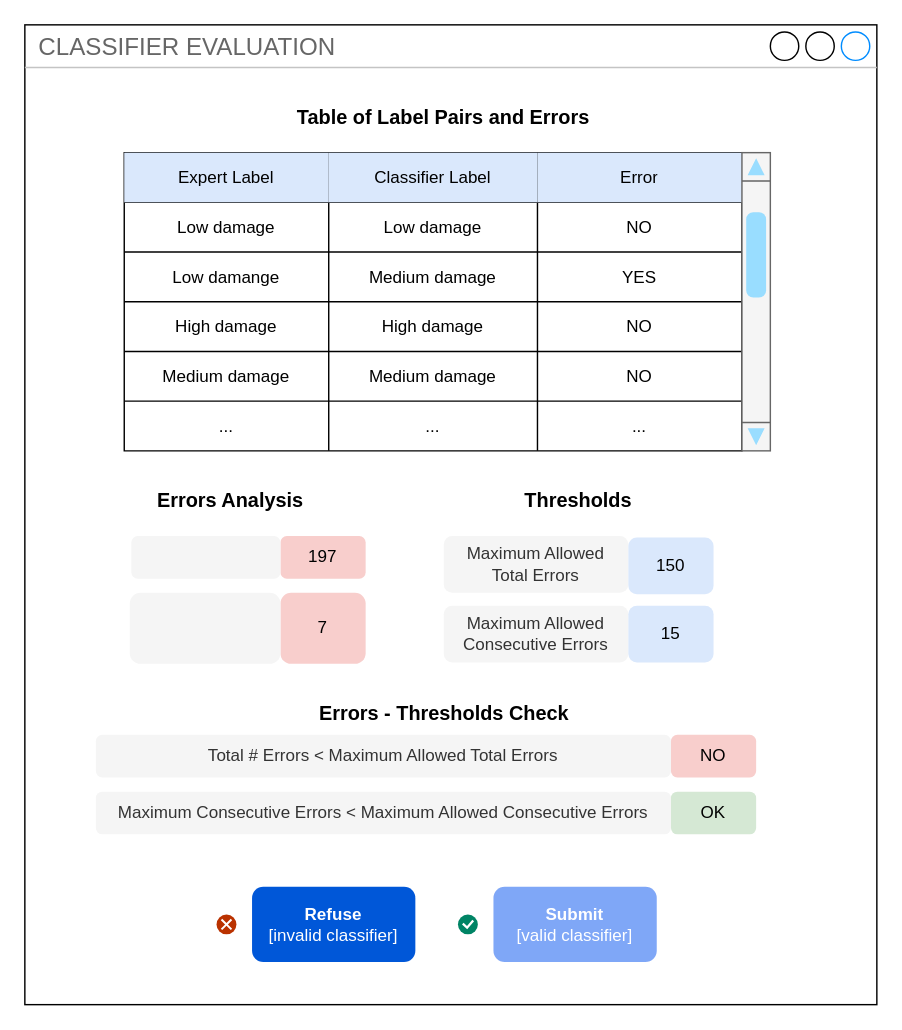
Image size: 902x1030. Some labels were removed from this diagram. The shapes that lost their labels are listed below. From the top down, each one's centre as x and y in pixels, then its label:
At point 205,556: "Total # Errors".
At point 204,627: "Maximum Consecutive Errors".
